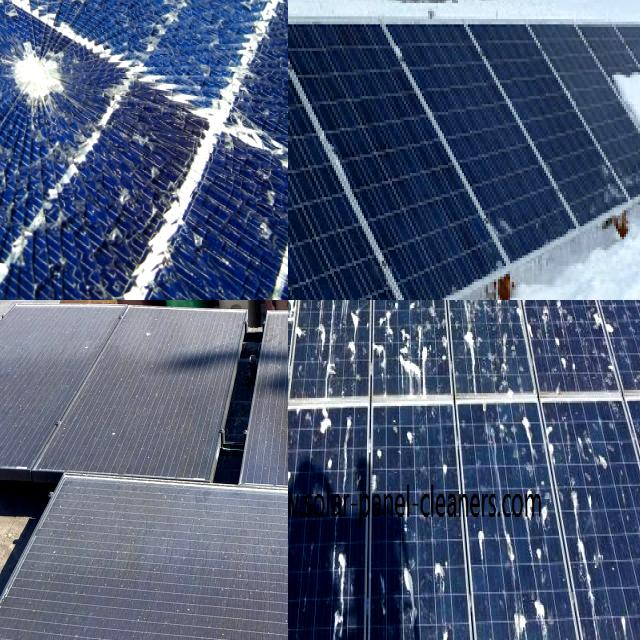bird: (569, 481, 604, 616), (389, 312, 437, 386), (459, 300, 499, 371), (327, 529, 349, 640), (507, 587, 552, 640), (517, 473, 556, 531), (450, 300, 489, 350), (400, 548, 422, 634), (313, 300, 340, 368), (384, 300, 428, 341), (288, 323, 311, 399), (577, 430, 611, 480), (288, 442, 310, 519), (504, 300, 549, 335), (321, 300, 359, 340), (432, 450, 462, 500), (426, 540, 448, 606), (288, 580, 310, 640), (401, 411, 426, 462), (544, 332, 572, 377), (288, 328, 305, 400), (346, 300, 363, 368), (288, 300, 304, 372), (370, 438, 400, 471), (288, 300, 312, 341), (288, 492, 302, 561), (608, 300, 640, 330), (288, 527, 304, 578), (312, 406, 335, 439), (288, 493, 309, 527), (288, 449, 303, 491), (288, 300, 307, 332), (288, 550, 303, 584), (288, 429, 300, 463), (288, 609, 301, 640), (530, 300, 560, 312)
dust: (69, 484, 288, 640), (98, 334, 225, 446), (0, 334, 74, 452)
hotspot: (0, 7, 97, 154)
panel: (604, 32, 640, 177), (480, 172, 522, 270)
